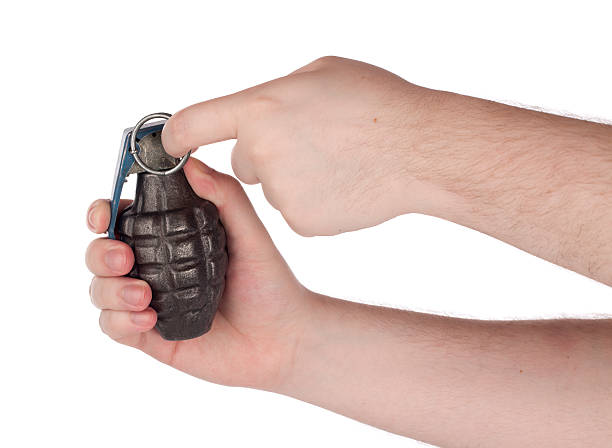e1: (104, 111, 228, 340)
